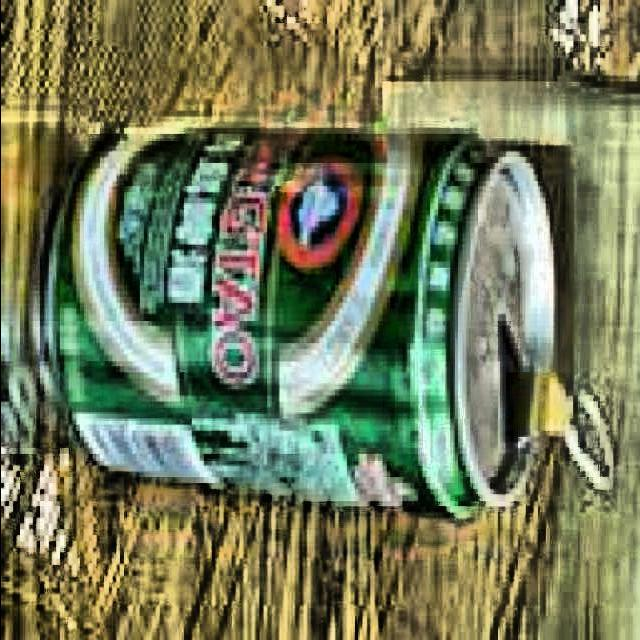Aluminum Can: (44, 123, 617, 526)
